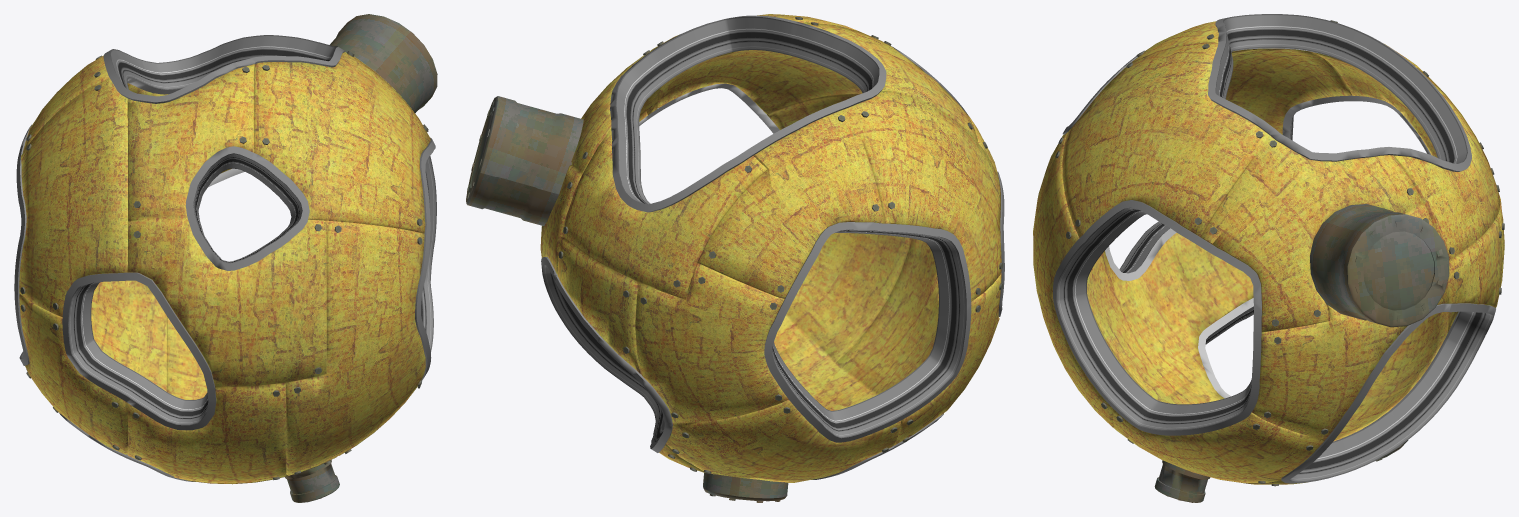
The model's file is holePlanet.dae.
The picture shows the model from 3 angles, left to right: view 1: azimuth 30°, elevation 25°; view 2: azimuth 150°, elevation 25°; view 3: azimuth 270°, elevation 25°; orthographic projection.
Visible parts, largest first — view 1: n0b3, n2b2, n3b0, n1b1; view 2: n0b3, n2b2, n3b0, n1b1; view 3: n0b3, n2b2, n3b0, n1b1.
Part boxes in pixels (box(x1,y1,x2,y2)): n0b3: box(19, 52, 430, 484); n2b2: box(14, 35, 436, 481); n3b0: box(91, 83, 231, 399); n1b1: box(20, 14, 437, 502); n0b3: box(540, 14, 1001, 482); n2b2: box(541, 15, 1004, 479); n3b0: box(639, 50, 938, 410); n1b1: box(466, 17, 1003, 502); n0b3: box(1033, 21, 1504, 484); n2b2: box(1052, 14, 1495, 483); n3b0: box(1087, 48, 1458, 441); n1b1: box(1055, 20, 1504, 502).
Bounding box in the file's own units: 3355 × 3063 × 2970.
4 materials, 4 textured.
